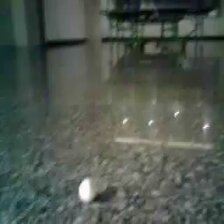w: (77, 177, 98, 202)
